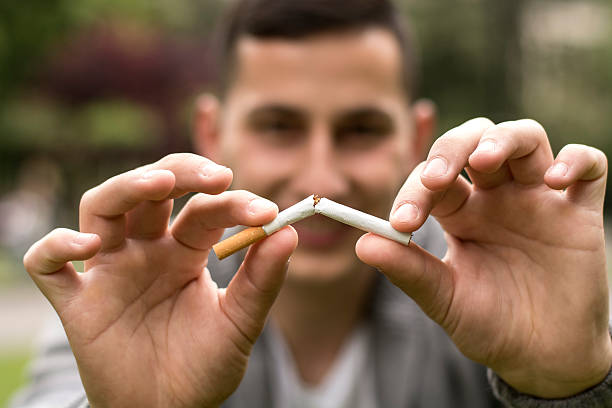cigarette: (213, 193, 320, 264), (312, 196, 416, 247)
